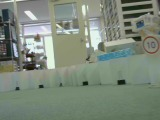speed_10: (142, 36, 160, 55)
